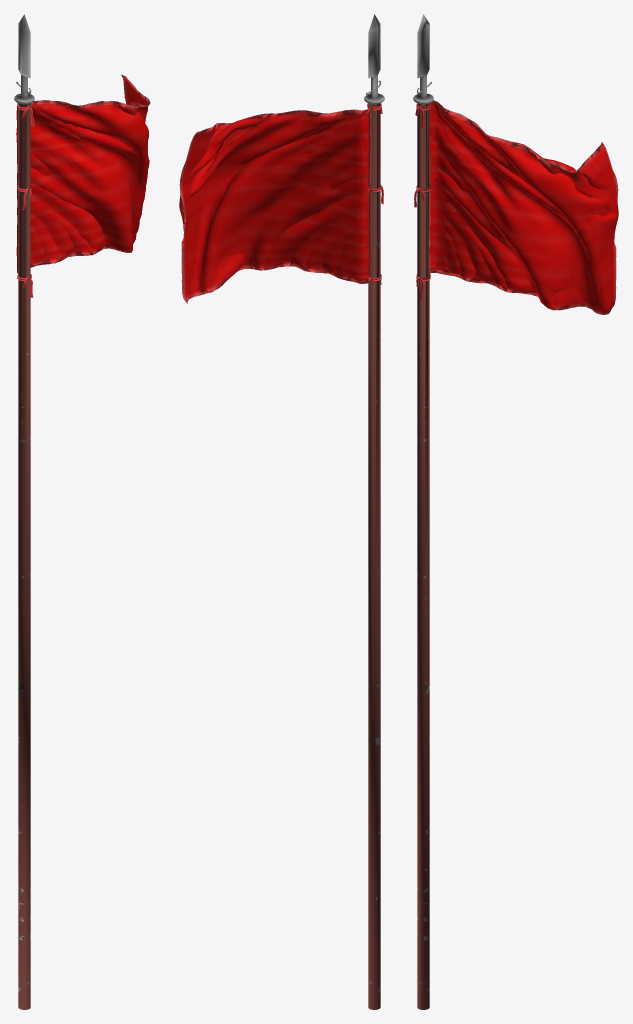
File: flag_nam.glb
3 views of the same model, side by side, from view 1: azimuth 30°, elevation 25°; view 2: azimuth 150°, elevation 25°; view 3: azimuth 330°, elevation 25° (orthographic).
Parts seen in each view (by area): view 1: Object_4; view 2: Object_4; view 3: Object_4.
Part boxes in pixels (x1,y1,x2,y2): Object_4: [14, 14, 150, 1009]; Object_4: [179, 14, 384, 1009]; Object_4: [413, 14, 618, 1009].
Size of the model in its own units: 0.8033 by 4.77 by 0.458.
Materials: 1 (1 with a texture image).
